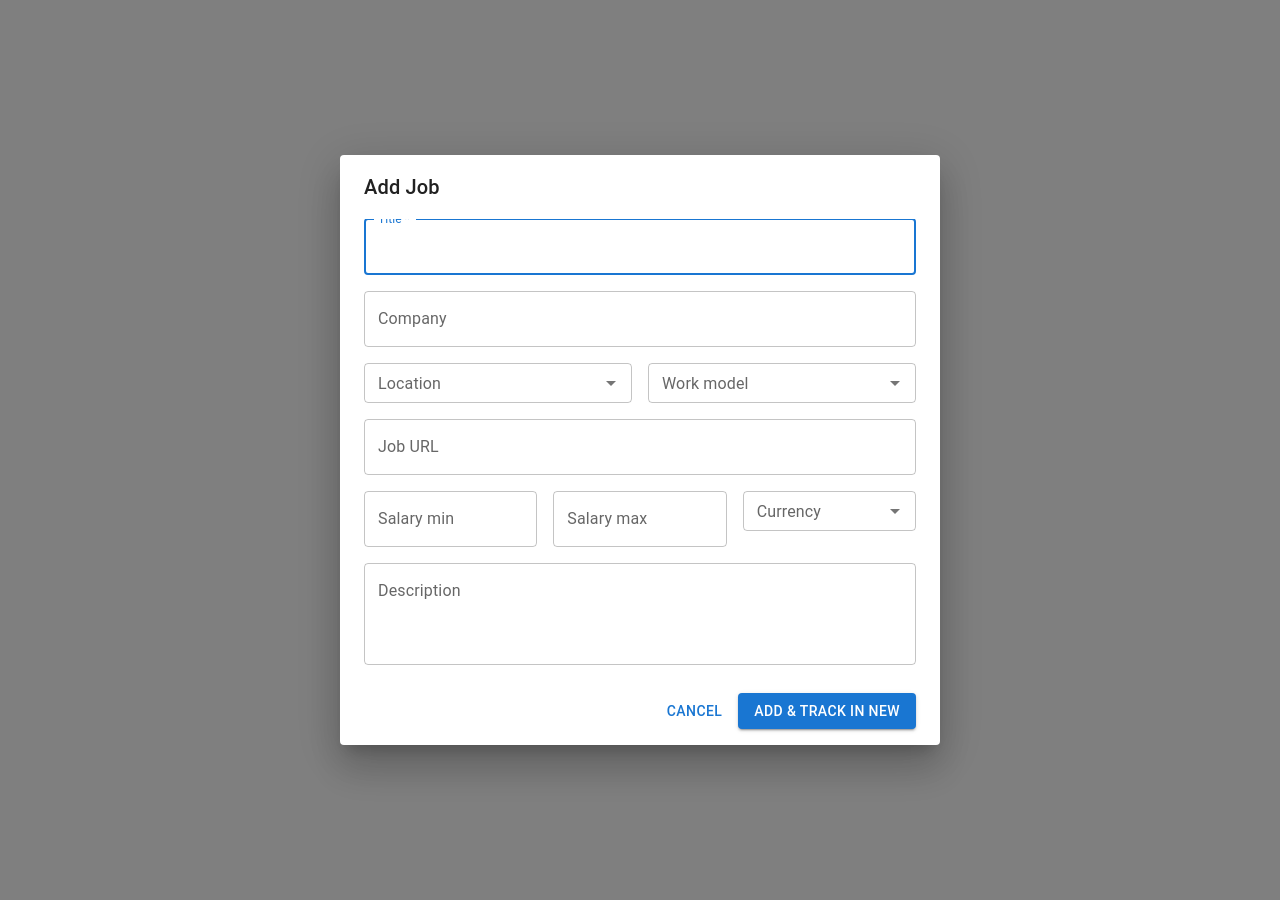
Test: Add Job validation errors › shows a backend field error on its field and keeps the dialog and the entered values
Type "Backend Engineer" into the field labelled "Title *".
click(640, 247); type("Backend Engineer")  # box left=364, top=219, right=916, bottom=275
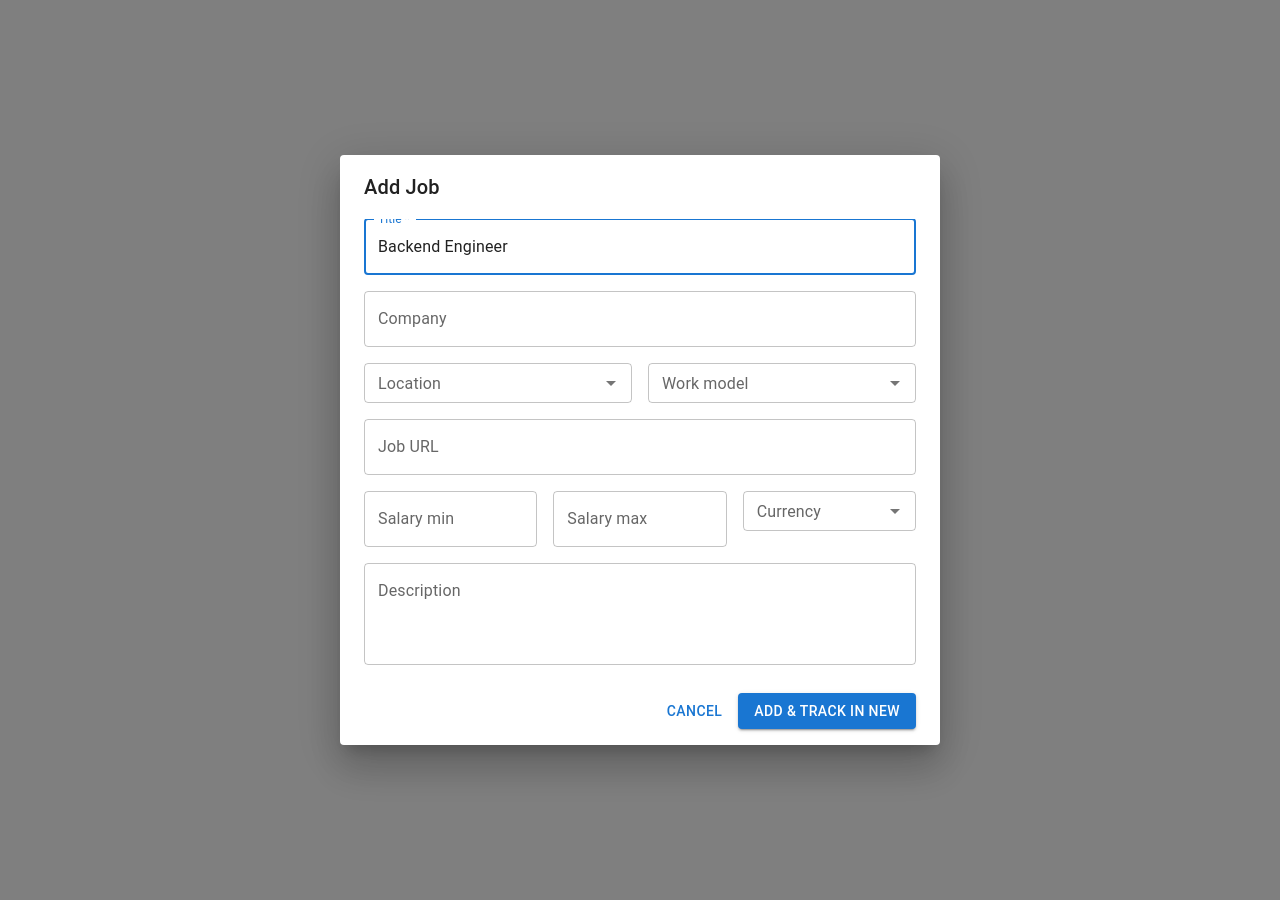
Type "linkedin.com/jobs/123" into the field labelled "Job URL".
click(640, 447); type("linkedin.com/jobs/123")  # box left=364, top=419, right=916, bottom=475
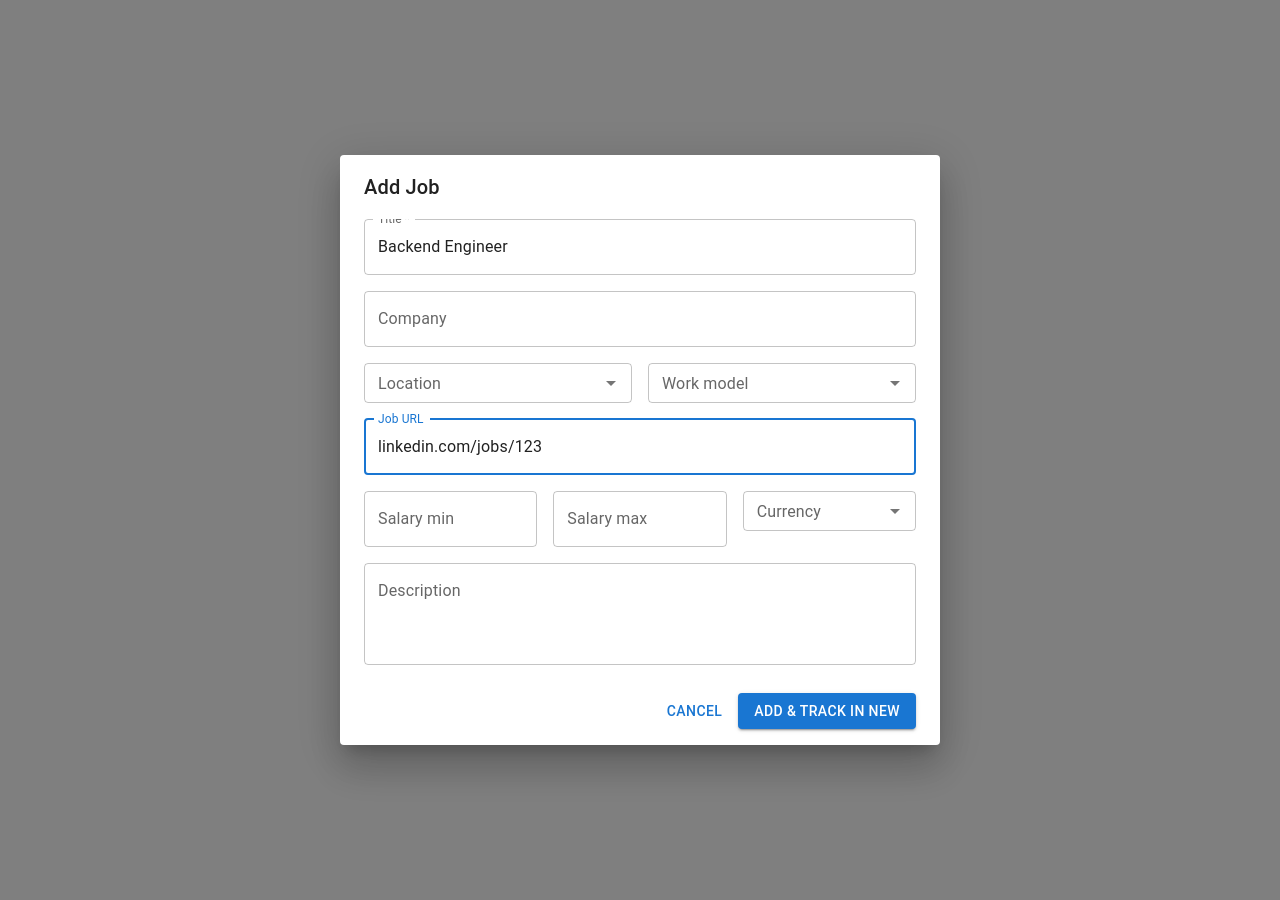
Click the button "Add & track in New".
click(827, 711)  # box left=738, top=693, right=916, bottom=729
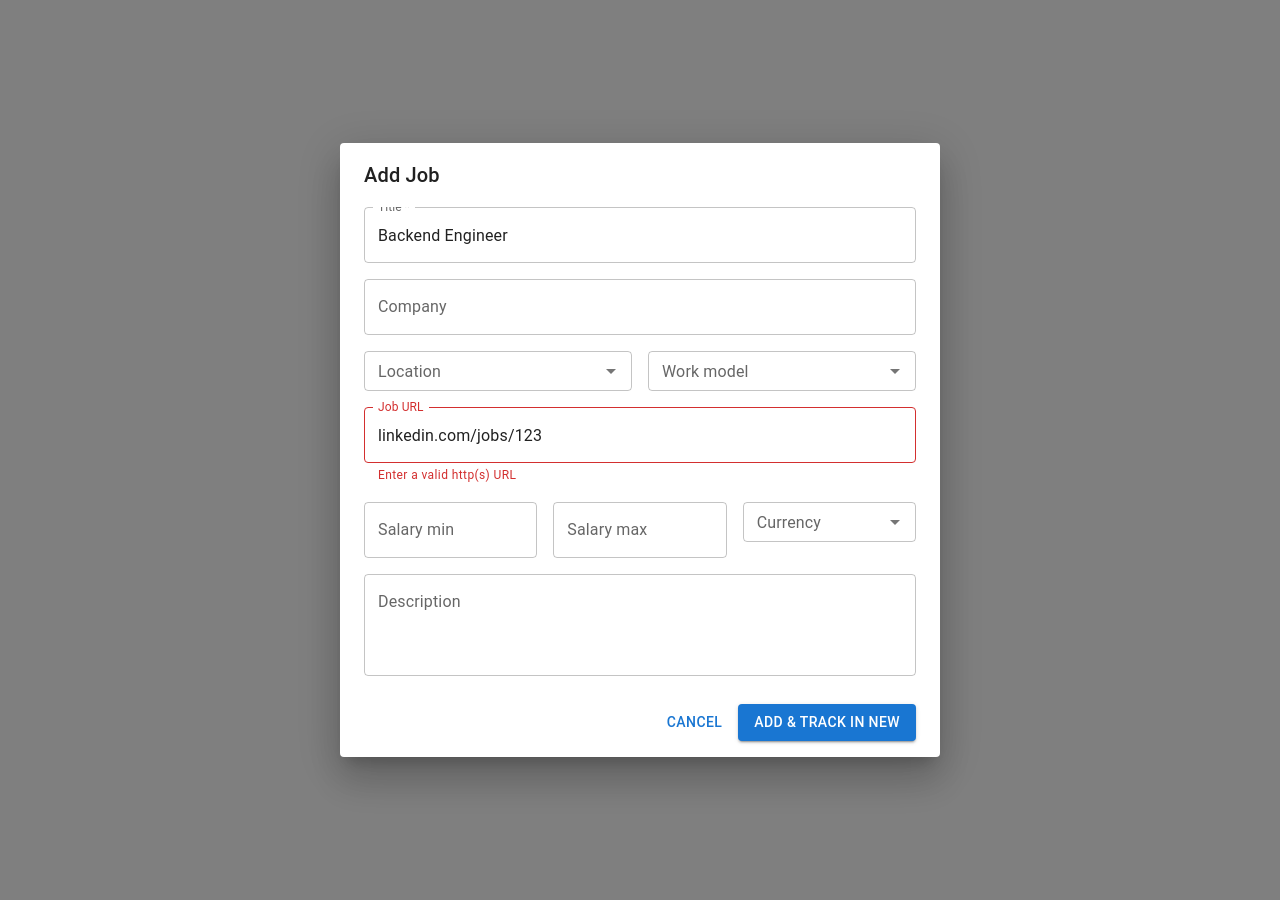
Expected: the dialog "Add Job" is shown, left=340, top=143, right=940, bottom=757
Expected: the text "Enter a valid http(s) URL" is shown, left=378, top=468, right=516, bottom=482
